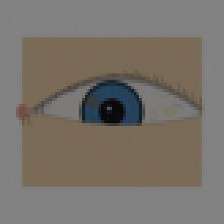pinguecula_lesion: (156, 101, 184, 123)
